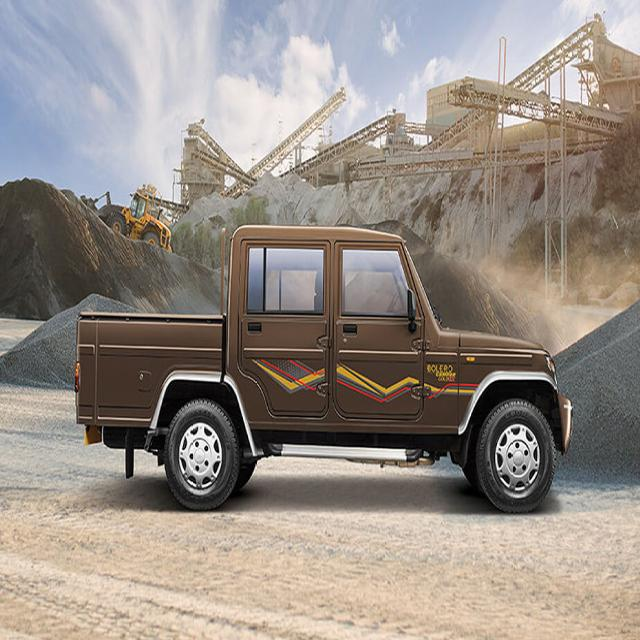light_vehicle: (69, 220, 572, 553)
